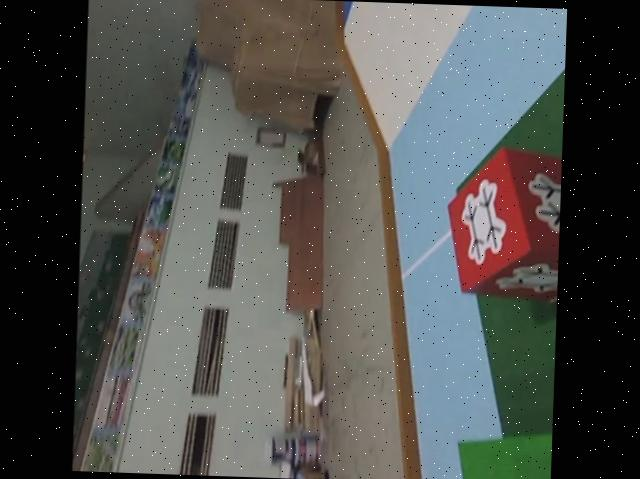R2 Real: (441, 148, 563, 298)
